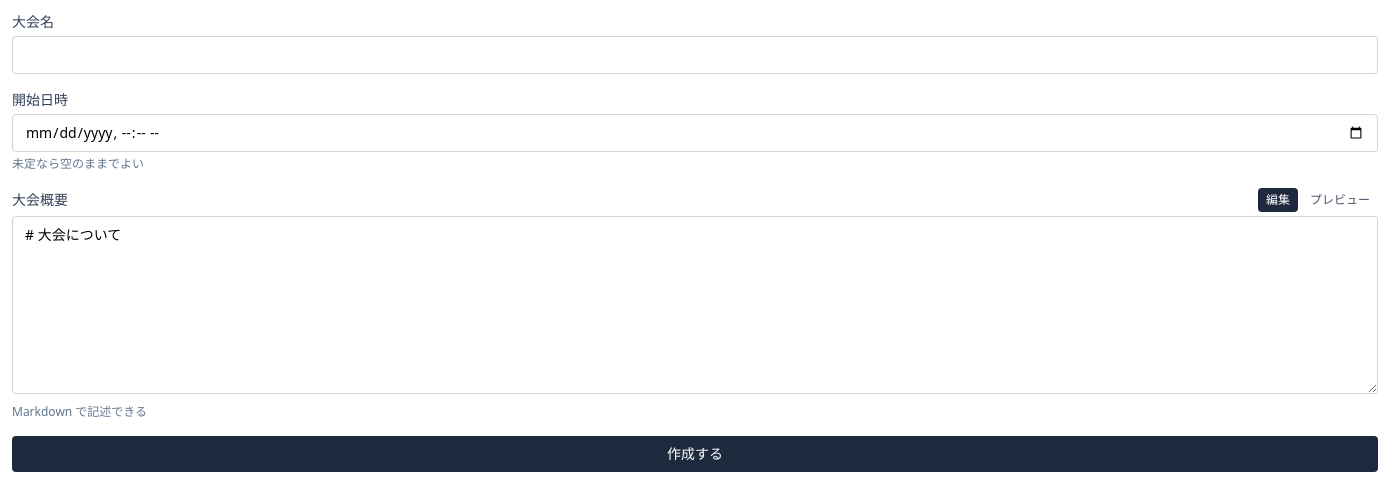
Test case: TournamentForm › プレビュータブで入力中の Markdown をレンダリングする
Click the button "プレビュー" at (1340, 200), box 1302,188 -> 1378,212
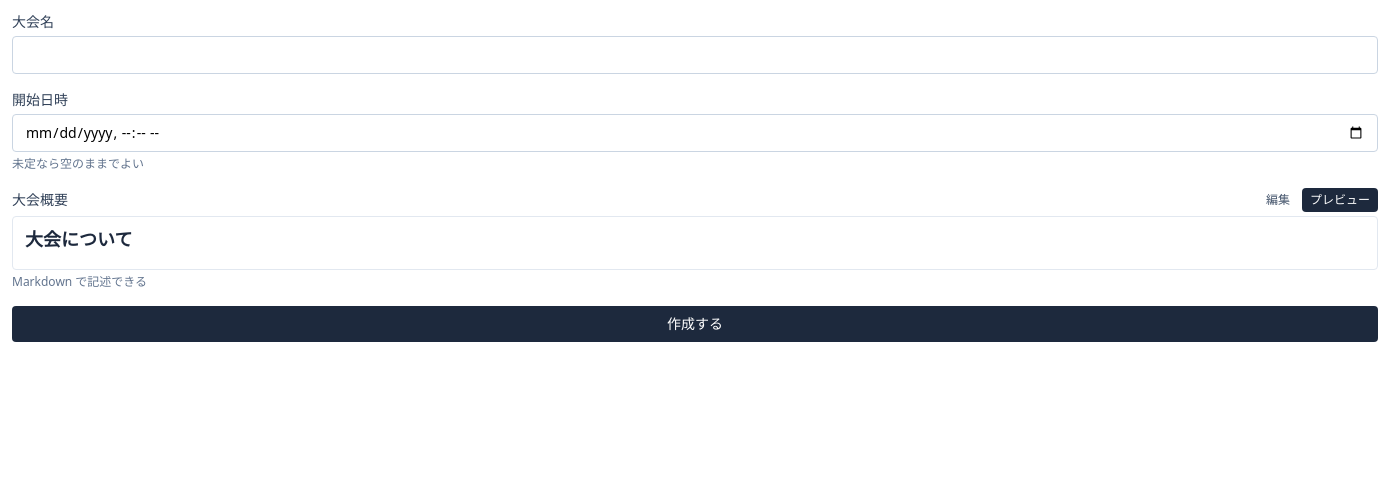
Now the heading "大会について" is shown, box 25,227 -> 132,251
Click the button "編集" at (1278, 200), box 1258,188 -> 1298,212
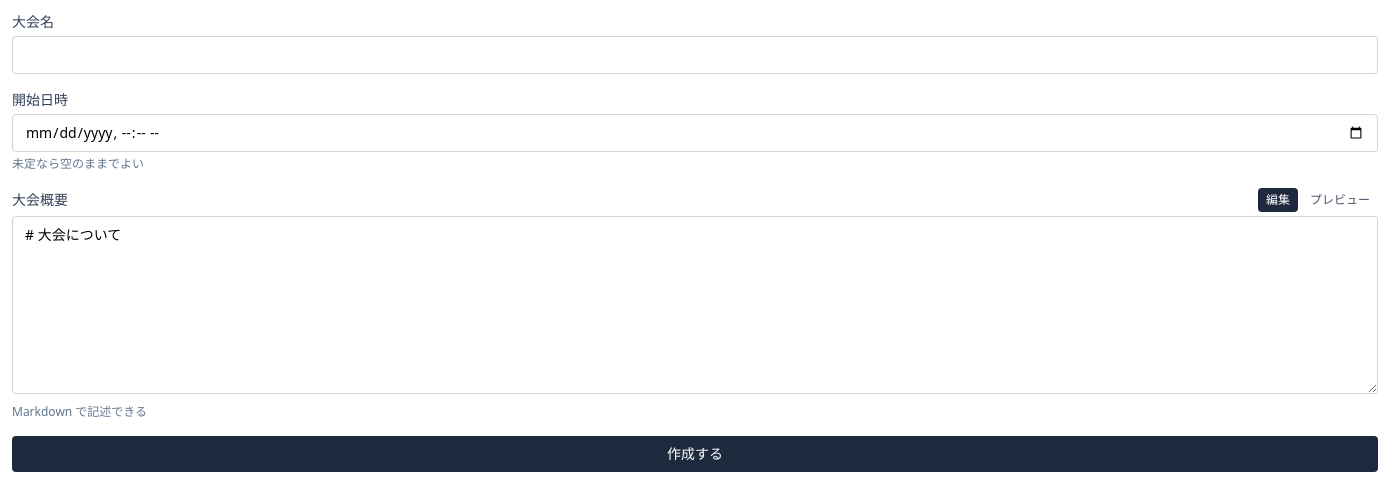
Now the text box labelled "大会概要" holds "# 大会について", box 12,216 -> 1378,394
